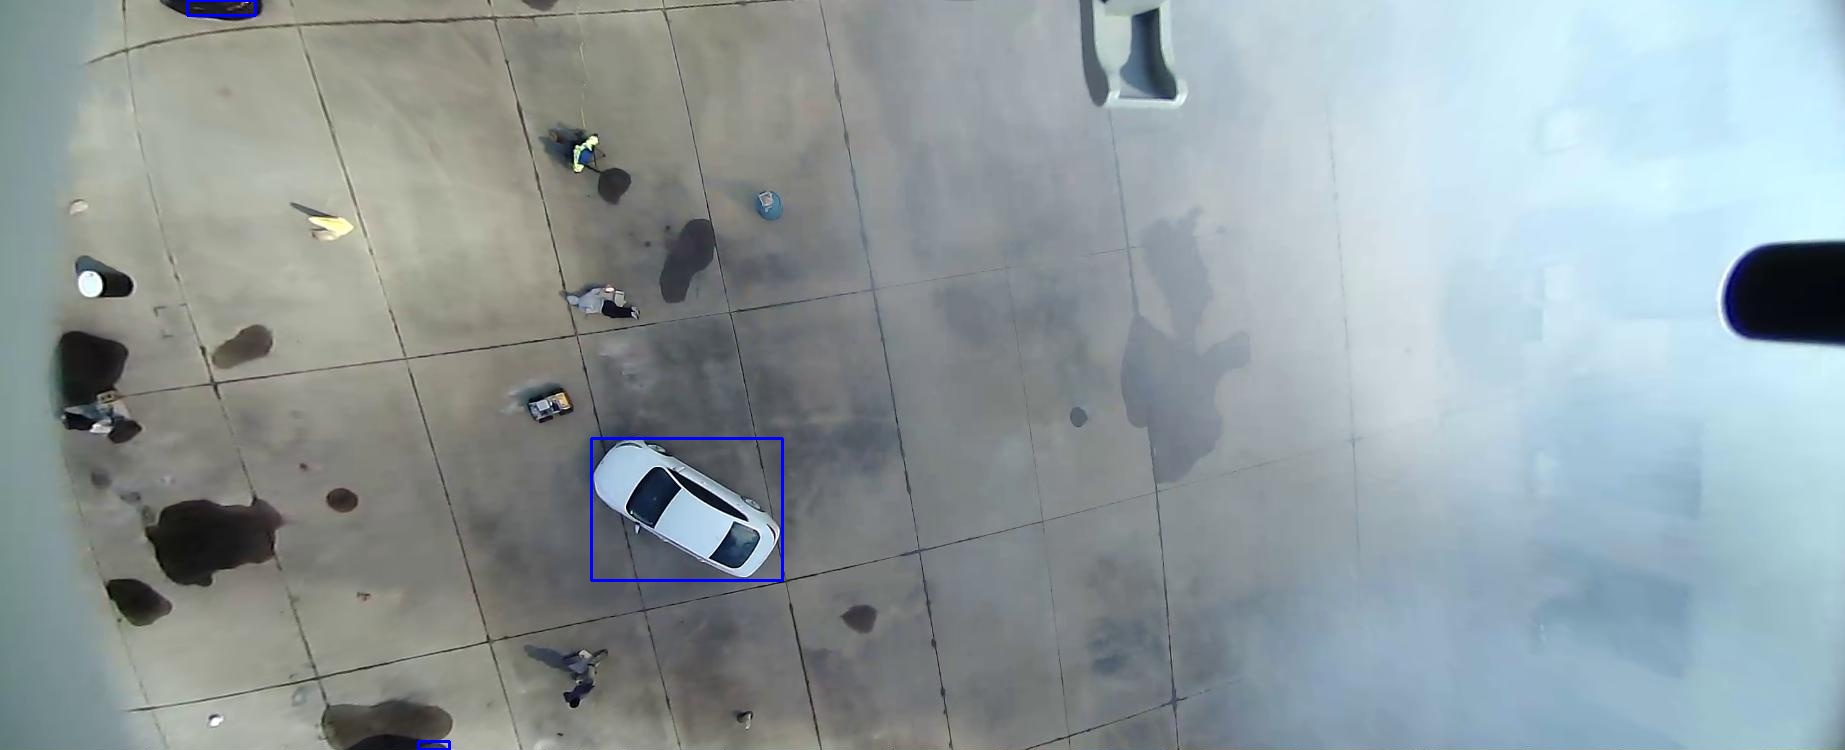vehicle: (438, 591, 580, 750), (0, 187, 15, 255), (741, 418, 750, 449)
